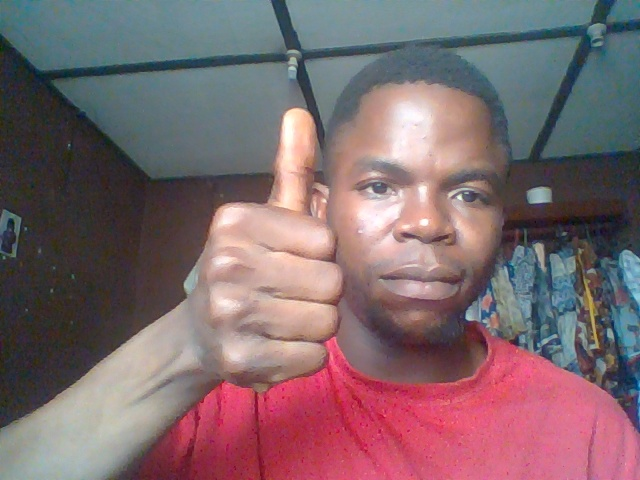Thumbup: (188, 107, 353, 392)
